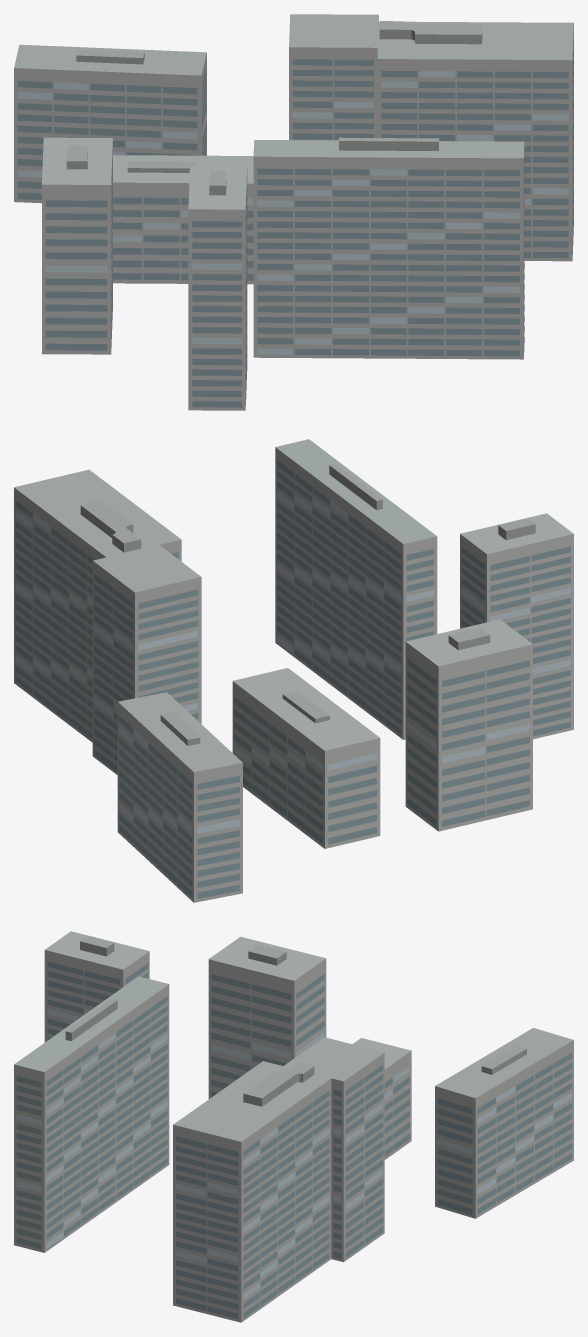
Rendered from apt-a15783905.glb.
3 views of the same model, one above another, from view 1: azimuth 30°, elevation 25°; view 2: azimuth 150°, elevation 25°; view 3: azimuth 270°, elevation 25° (orthographic). The views are drawn at different scales.
Parts seen in each view (by area): view 1: apt-a15783905; view 2: apt-a15783905; view 3: apt-a15783905.
Part boxes in pixels (x1=…): apt-a15783905: x1=14, y1=14, x2=573, y2=410; apt-a15783905: x1=14, y1=439, x2=573, y2=902; apt-a15783905: x1=14, y1=931, x2=573, y2=1322.
Size of the model in its own units: 135 by 51 by 137.
